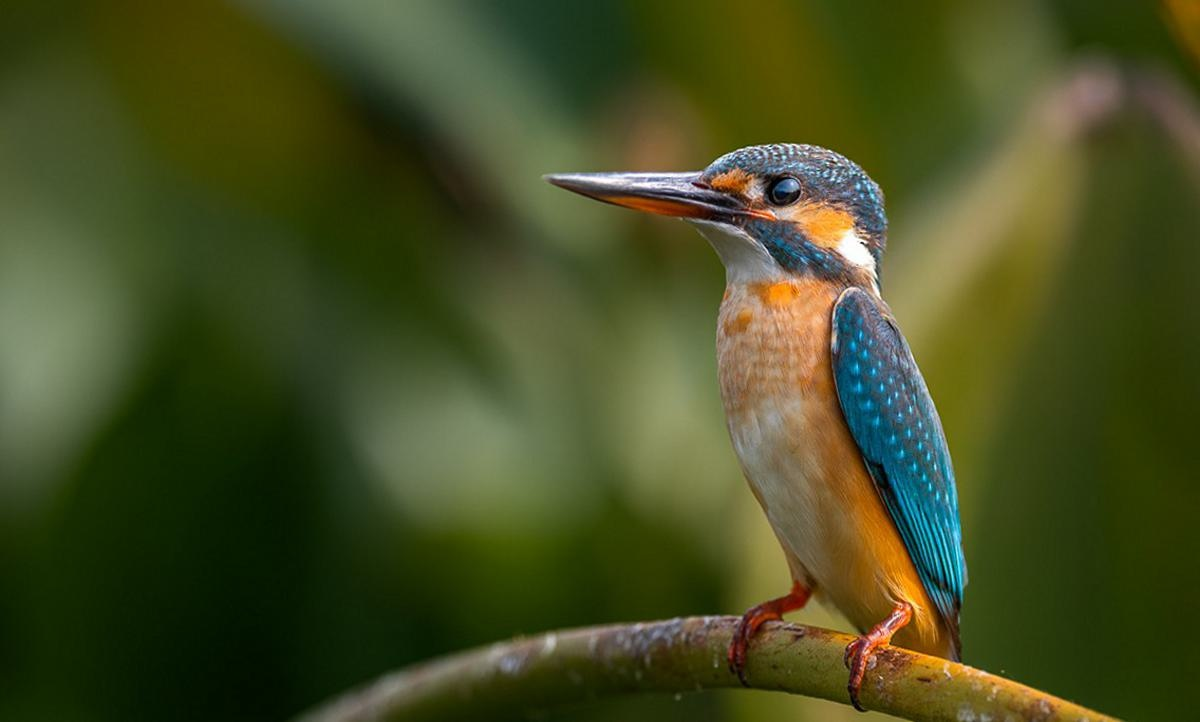kingfisher: (548, 124, 973, 682)
